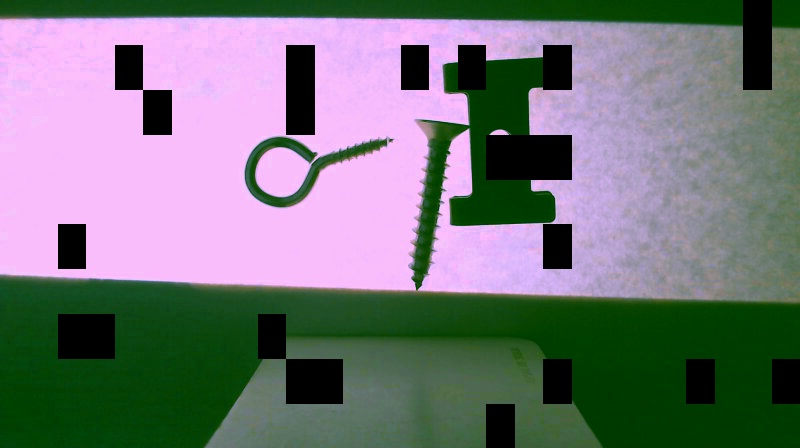O001: (241, 135, 398, 208)
O002: (442, 55, 556, 228)
S001: (407, 118, 469, 289)
